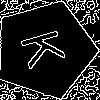K: (20, 25, 76, 70)
